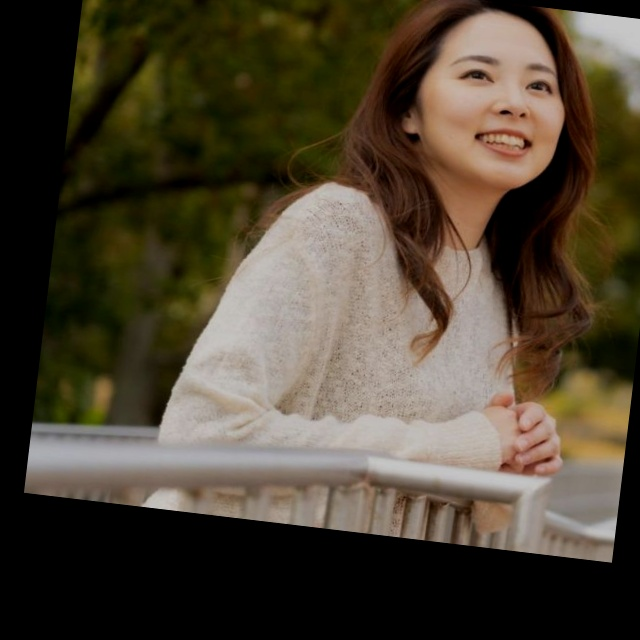Sin_Casco_Mascarrilla: (375, 0, 594, 197)
Sin_Chaleco: (221, 167, 557, 461)
